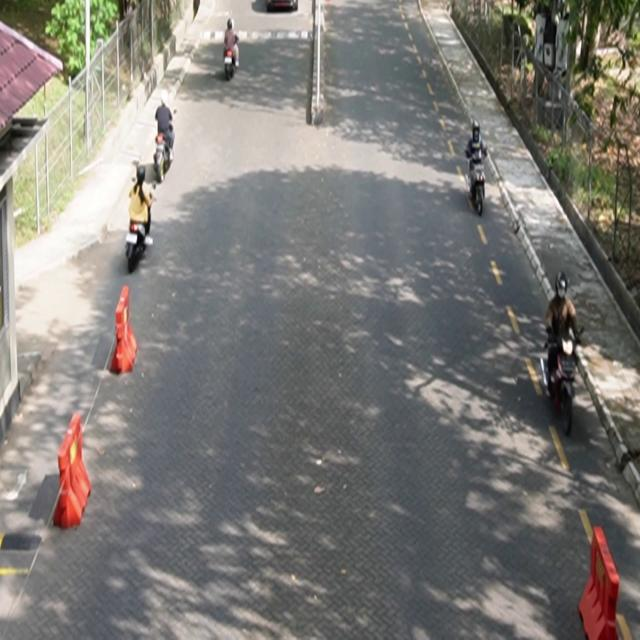car: (266, 1, 299, 12)
